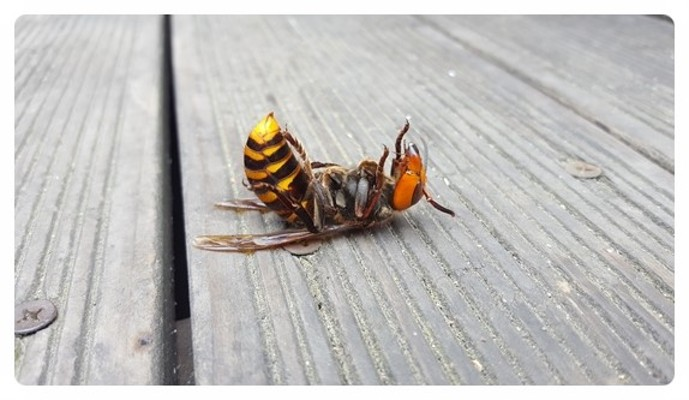asian_giant_hornet: (240, 109, 434, 236)
